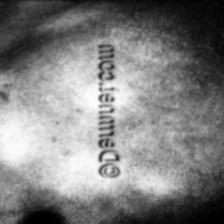Non-Cancerous Skin Condition: (132, 52, 224, 125), (0, 66, 42, 116)
